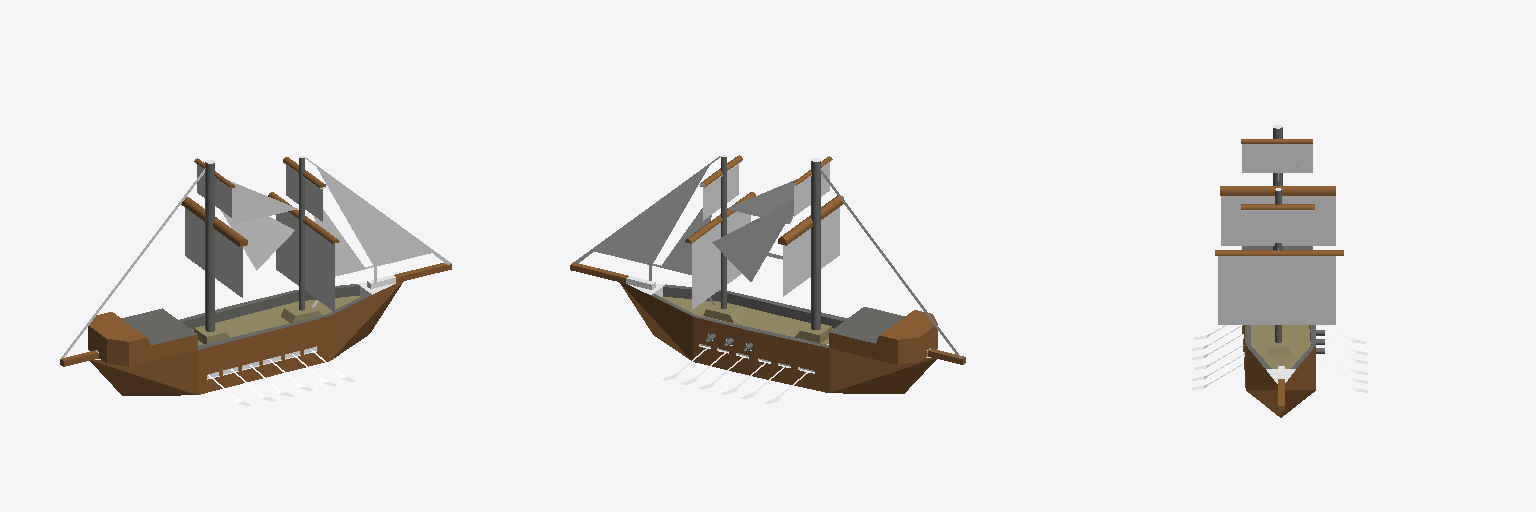
Rendered from boat.obj.
3 views of the same model, side by side, from view 1: azimuth 30°, elevation 25°; view 2: azimuth 150°, elevation 25°; view 3: azimuth 270°, elevation 25° (orthographic).
Visible parts, largest first — view 1: Mesh1 Model, Mesh3 Model, Mesh2 Model; view 2: Mesh1 Model, Mesh3 Model, Mesh2 Model; view 3: Mesh1 Model.
Part boxes in pixels (x1,y1,x2,y2): Mesh1 Model: (60,156,451,395); Mesh3 Model: (221,211,294,270); Mesh2 Model: (228,180,297,224); Mesh1 Model: (570,155,965,393); Mesh3 Model: (712,200,793,281); Mesh2 Model: (726,179,796,223); Mesh1 Model: (1215,125,1367,417).
Size of the model in its own units: 11.15 by 5.81 by 4.38.